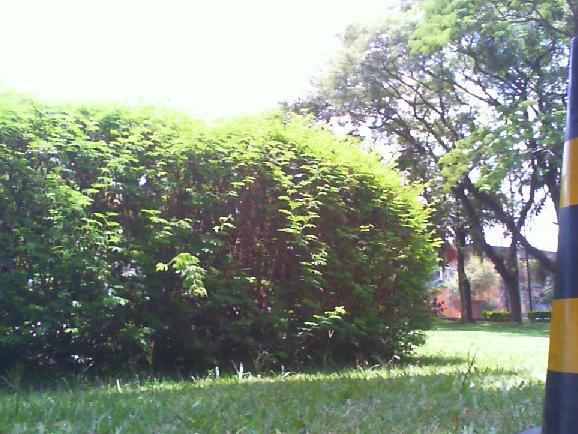0 cone: (510, 32, 578, 434)
